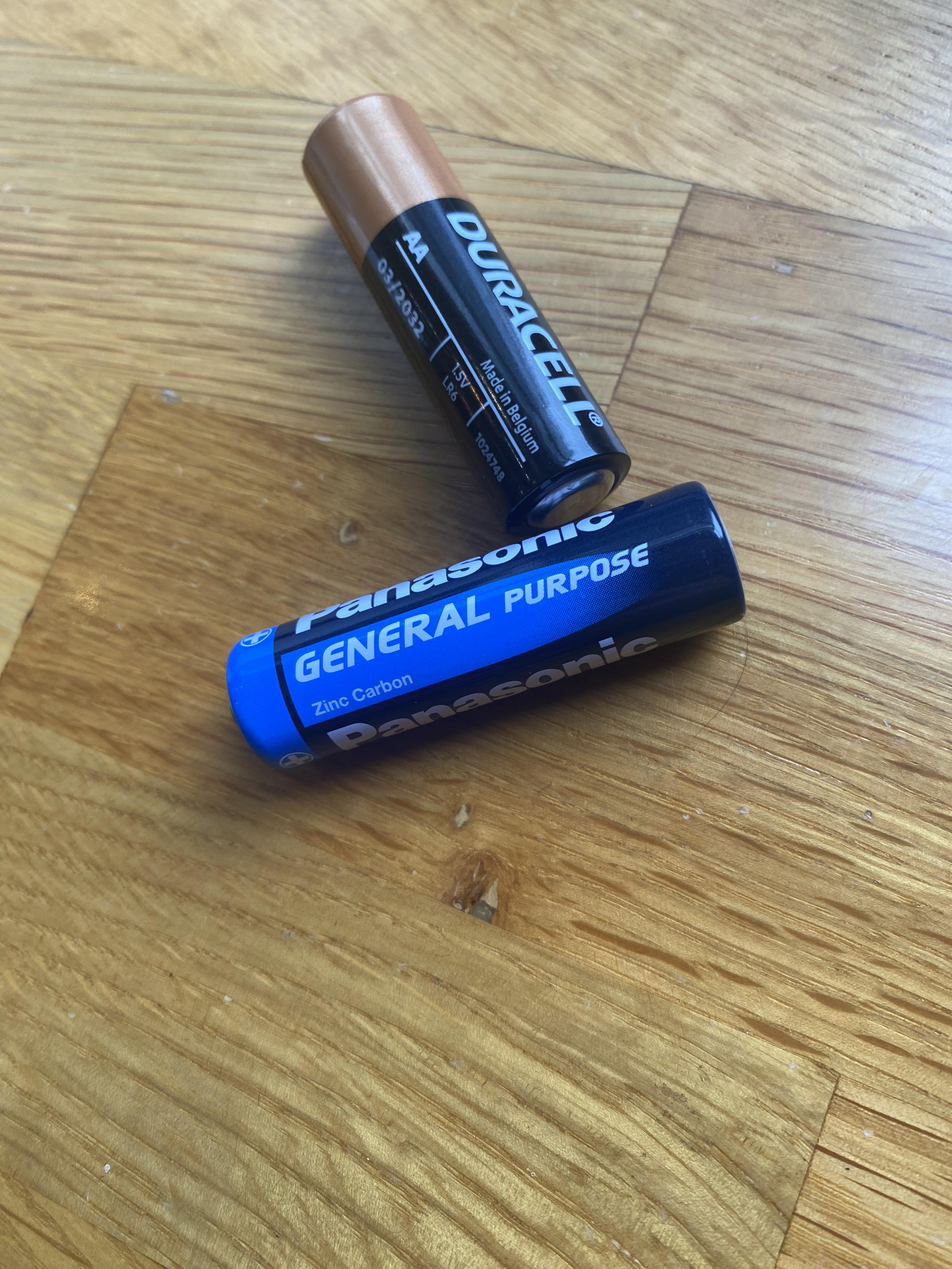AA: (224, 478, 746, 771)
